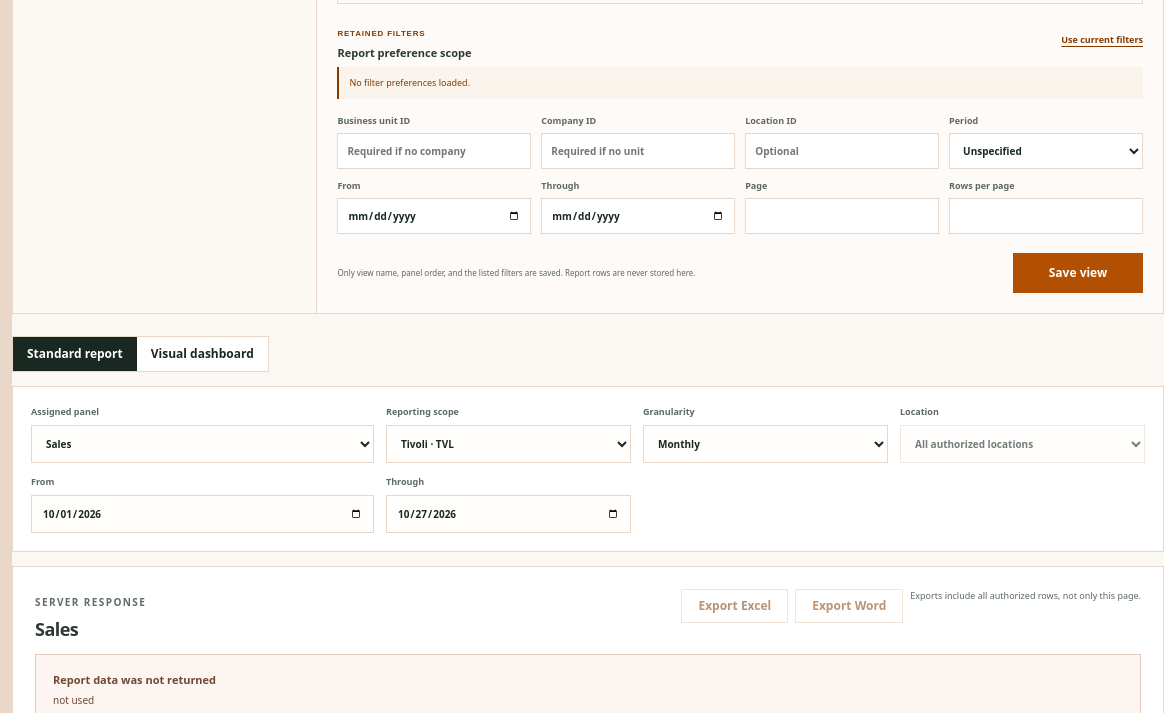
Test: the visual dashboard loads every assigned panel with the chosen scope and explains a denial
(page scrolled)
What coordinates should you click on to do the following:
click the button "Visual dashboard"
I would click on:
 (202, 354)
Its box is 137,337 -> 268,371.
(page scrolled)
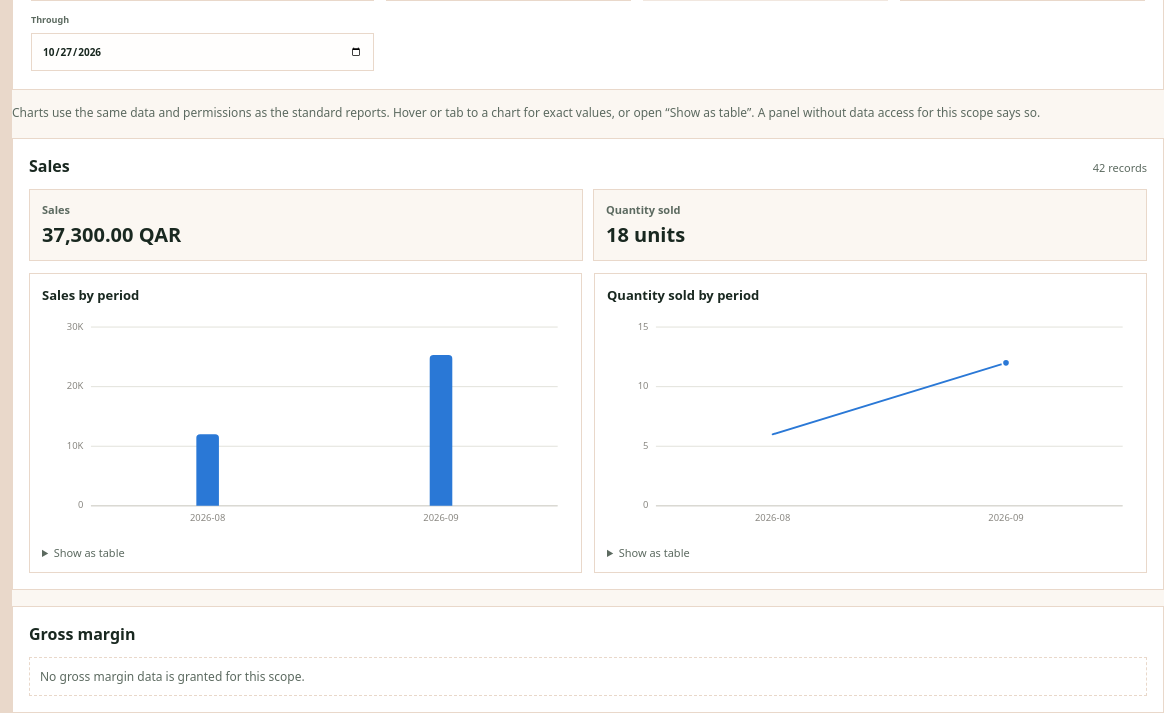
Check: the label with class "report-panel-select" is gone
Check: the element showing "Sales 37,300.00 QAR Quantity sold 18 units" is shown, box 29,189 -> 1147,261
Check: the message "No gross margin data is granted for this scope." is shown, box 29,657 -> 1147,696
